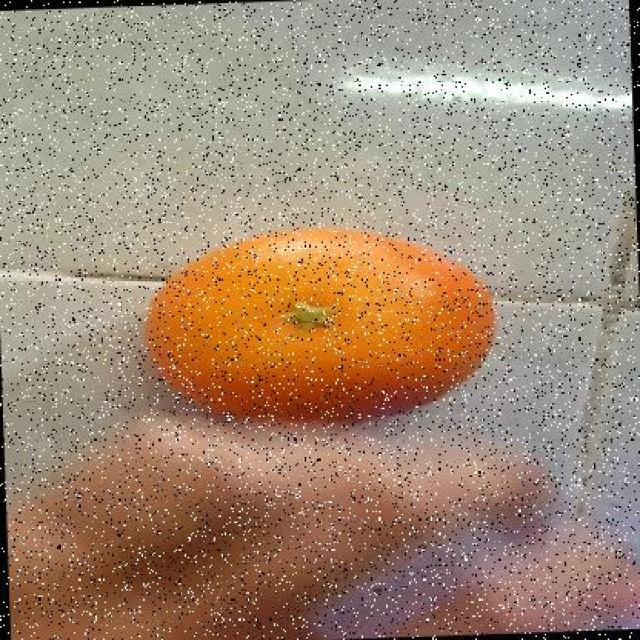Orange: (143, 225, 497, 426)
